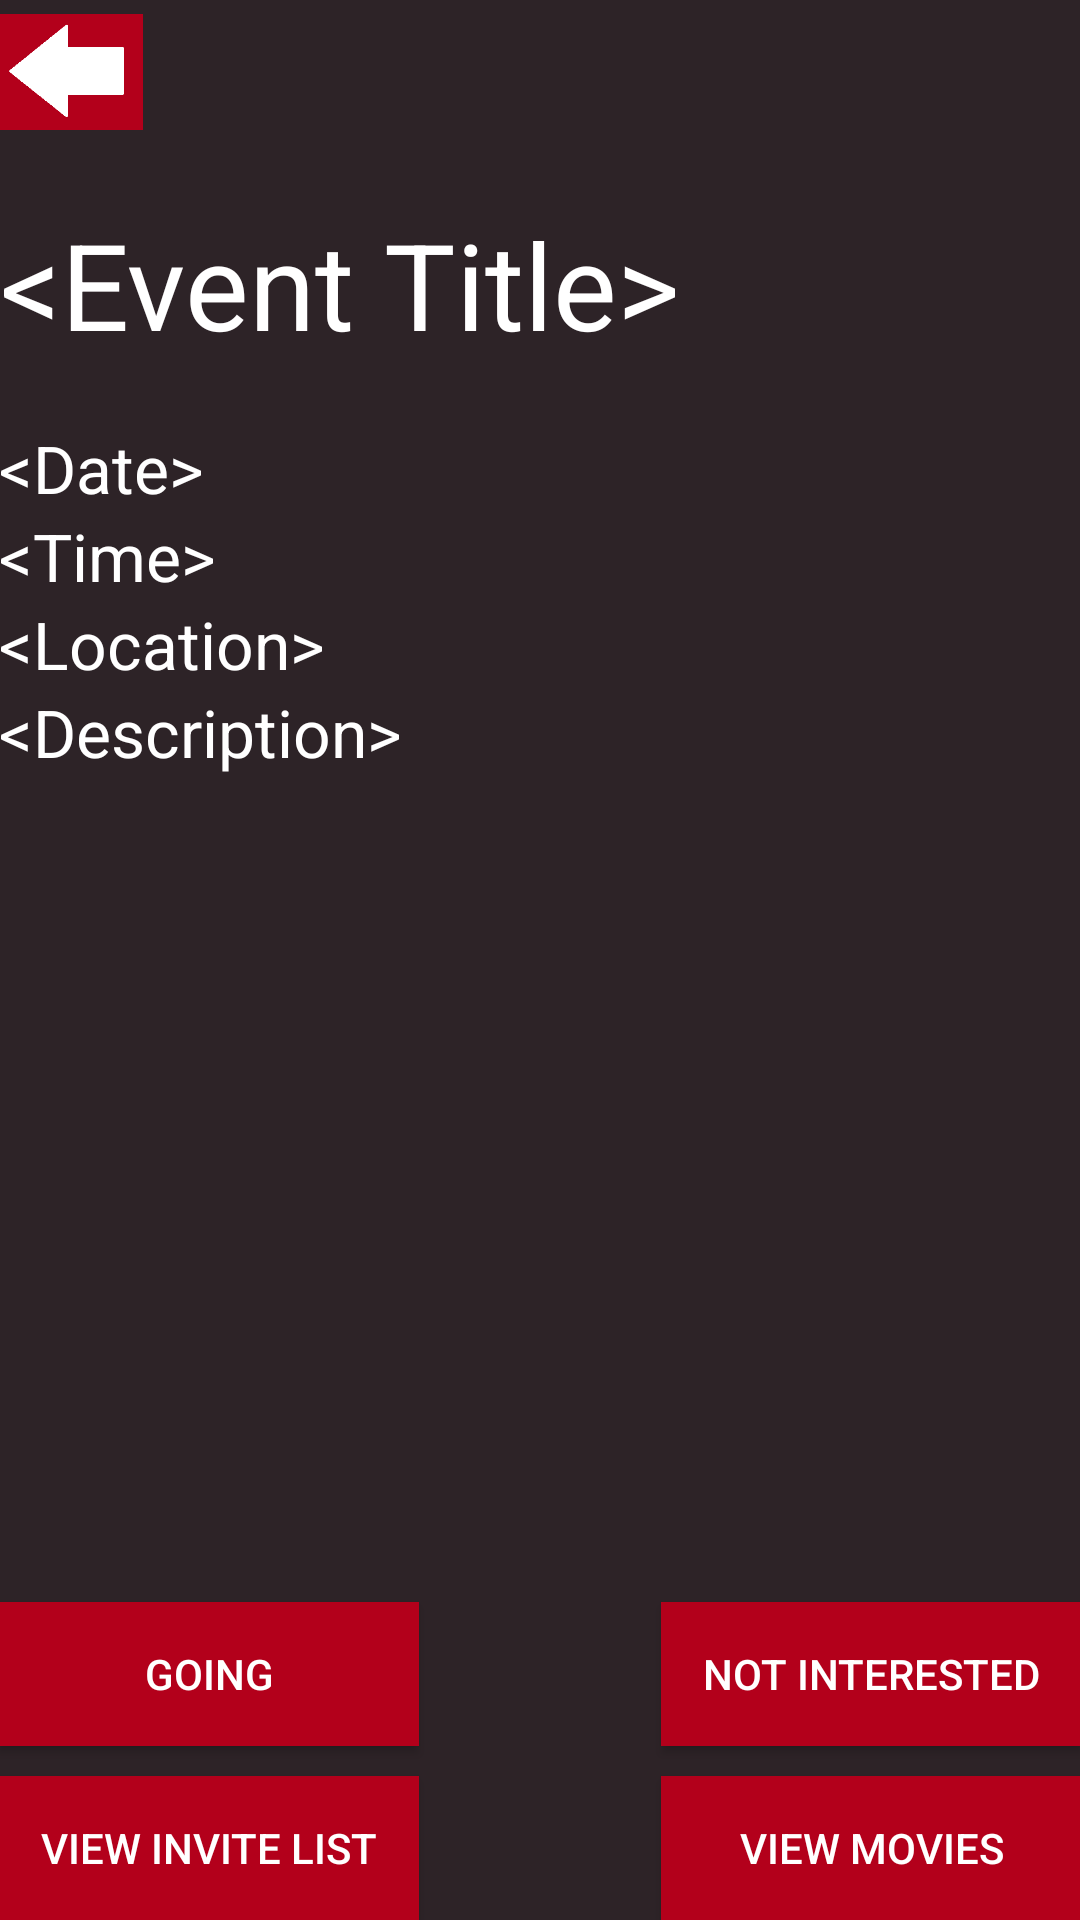

Screen size 1080×1920. Icon name, then its center in pixels as (x,y):
back: (71,72)
